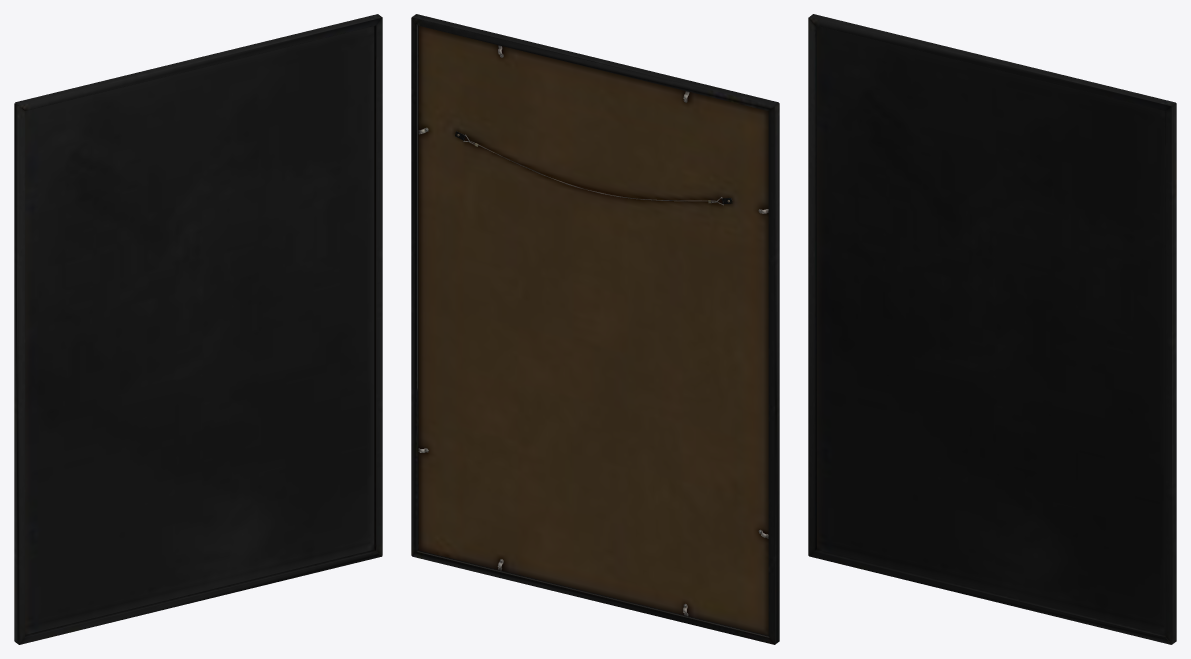
Rendered from hanging_picture_frame_01.gltf.
3 views of the same model, side by side, from view 1: azimuth 30°, elevation 25°; view 2: azimuth 150°, elevation 25°; view 3: azimuth 330°, elevation 25° (orthographic).
Parts seen in each view (by area): view 1: hanging_picture_frame_01; view 2: hanging_picture_frame_01; view 3: hanging_picture_frame_01.
Part boxes in pixels (x1,y1,x2,y2): hanging_picture_frame_01: [14, 14, 382, 644]; hanging_picture_frame_01: [411, 14, 779, 644]; hanging_picture_frame_01: [808, 14, 1176, 644].
Bounding box in the file's own units: 0.594 × 0.841 × 0.0154.
Materials: 3 (3 with a texture image).
